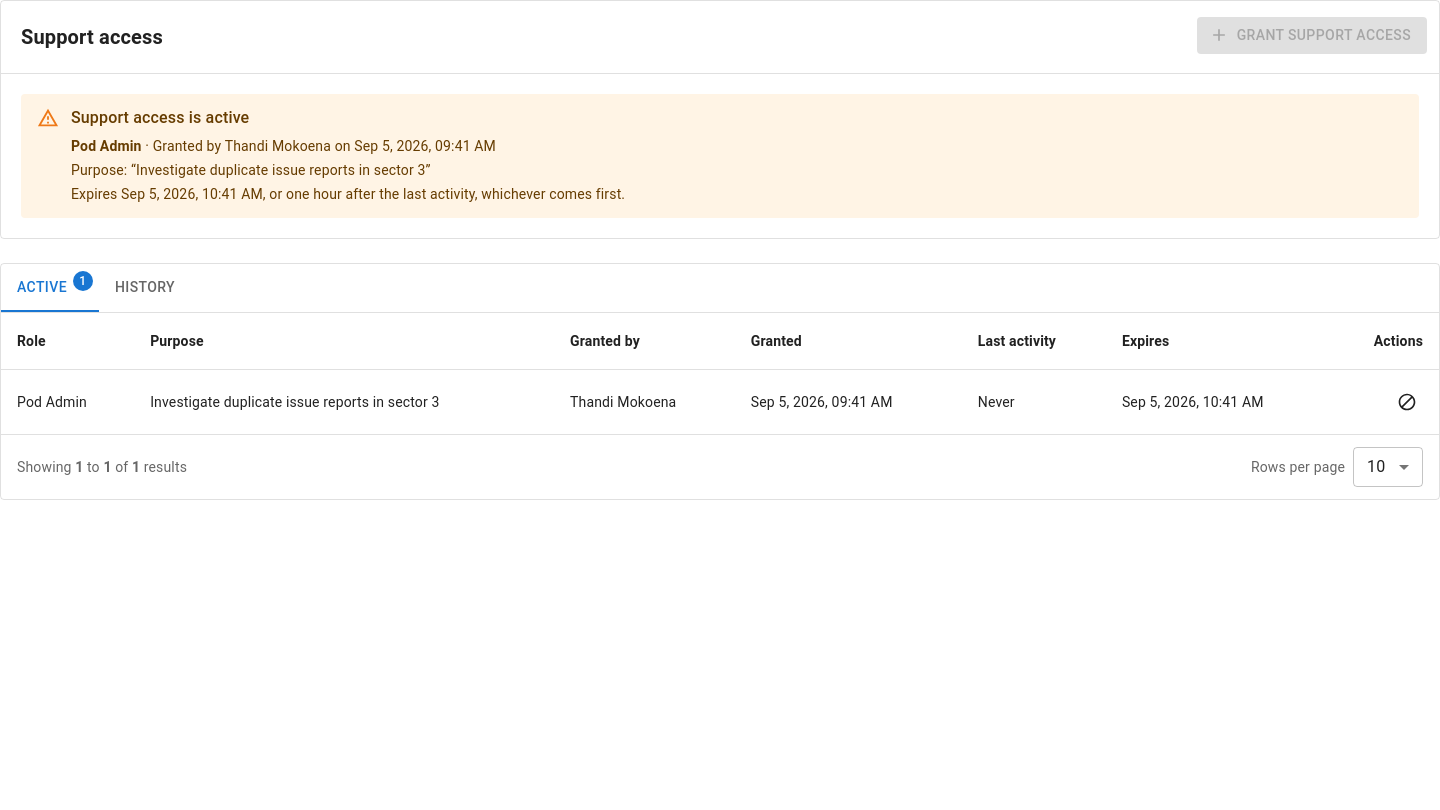
it: SupportAccessSection › should close the dialog and show a generic error when the revoke fails
What coordinates should you click on to do the following:
click the button named "revoke"
I would click on:
 (1407, 402)
Its box is [1391,386,1423,418].
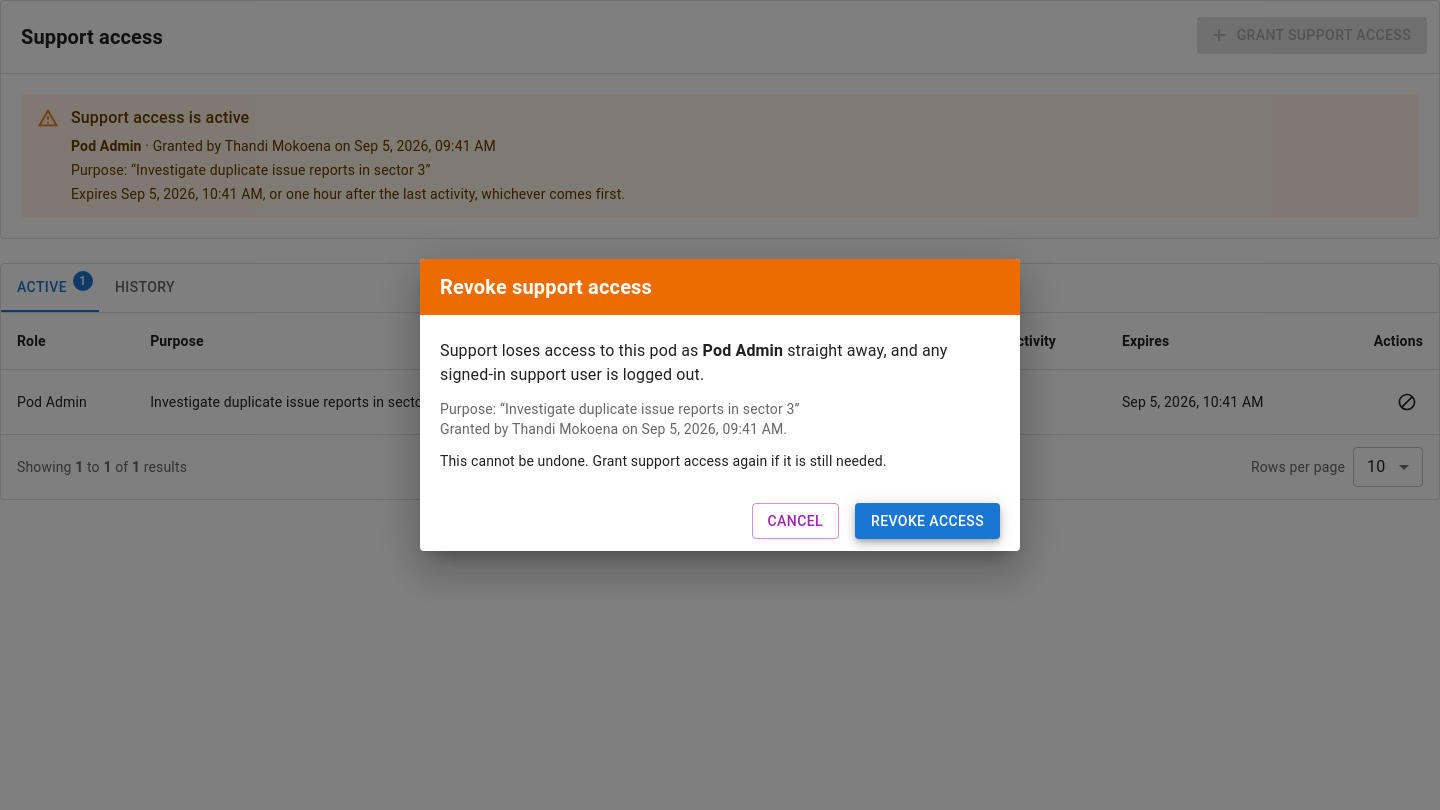
What coordinates should you click on to do the following:
click the button "Revoke access"
I would click on:
 (928, 521)
Its box is [855,503,1000,539].
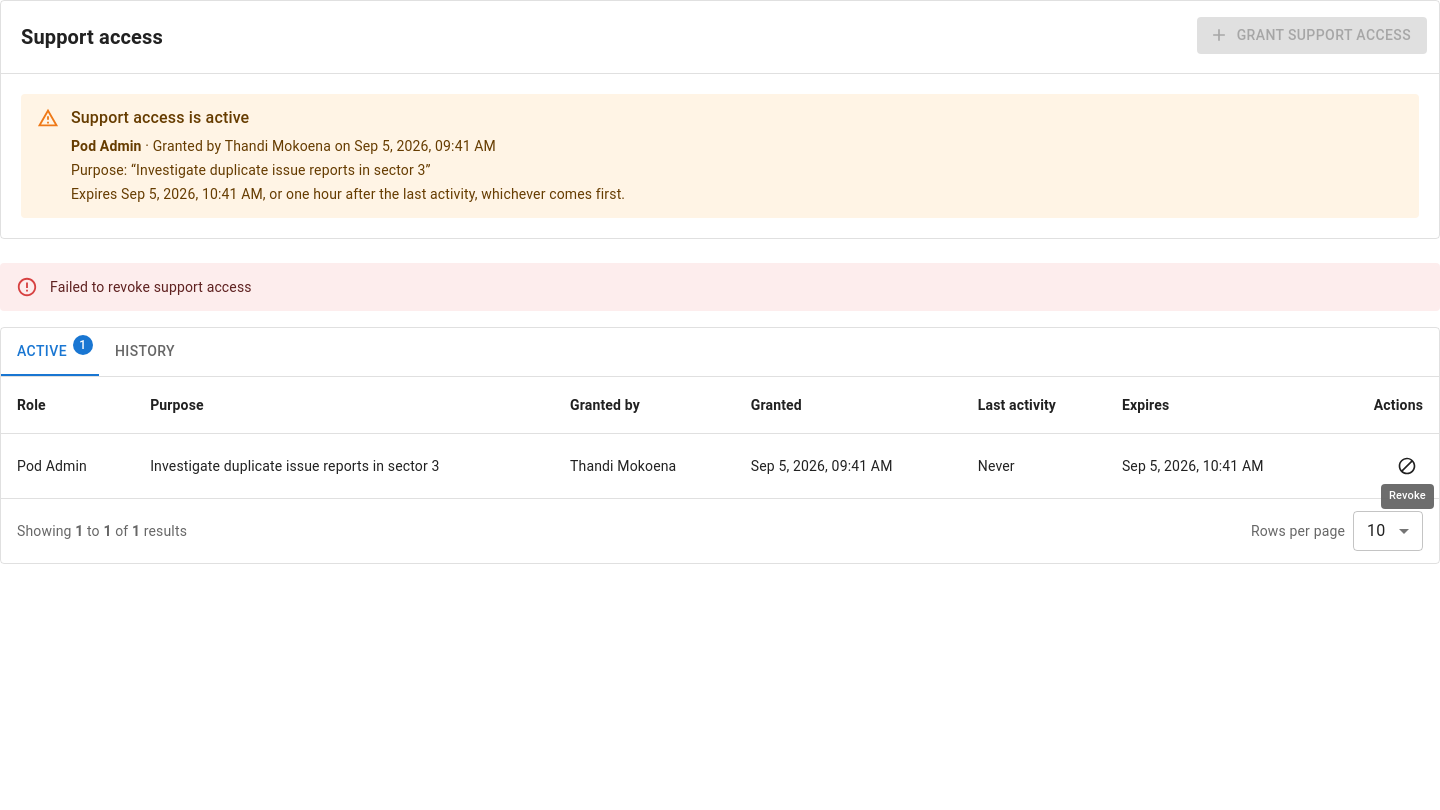
Result: the dialog is gone
Result: the text "Failed to revoke support access" is shown at [50,279,252,295]
